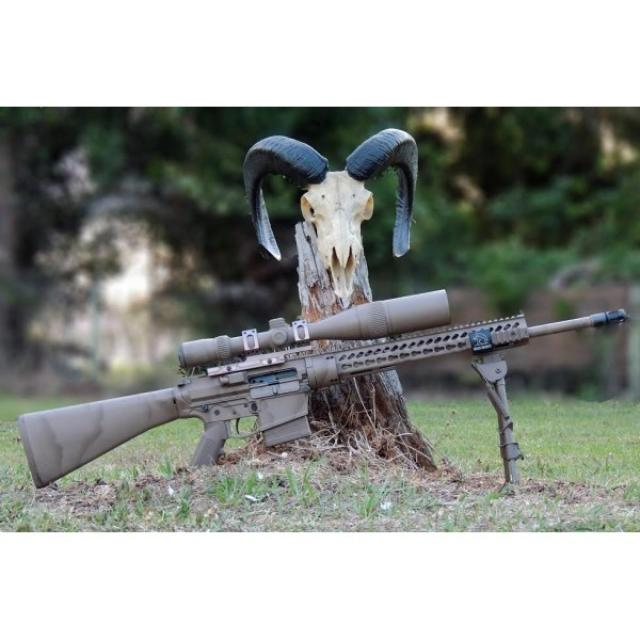Rifle: (15, 290, 627, 489)
